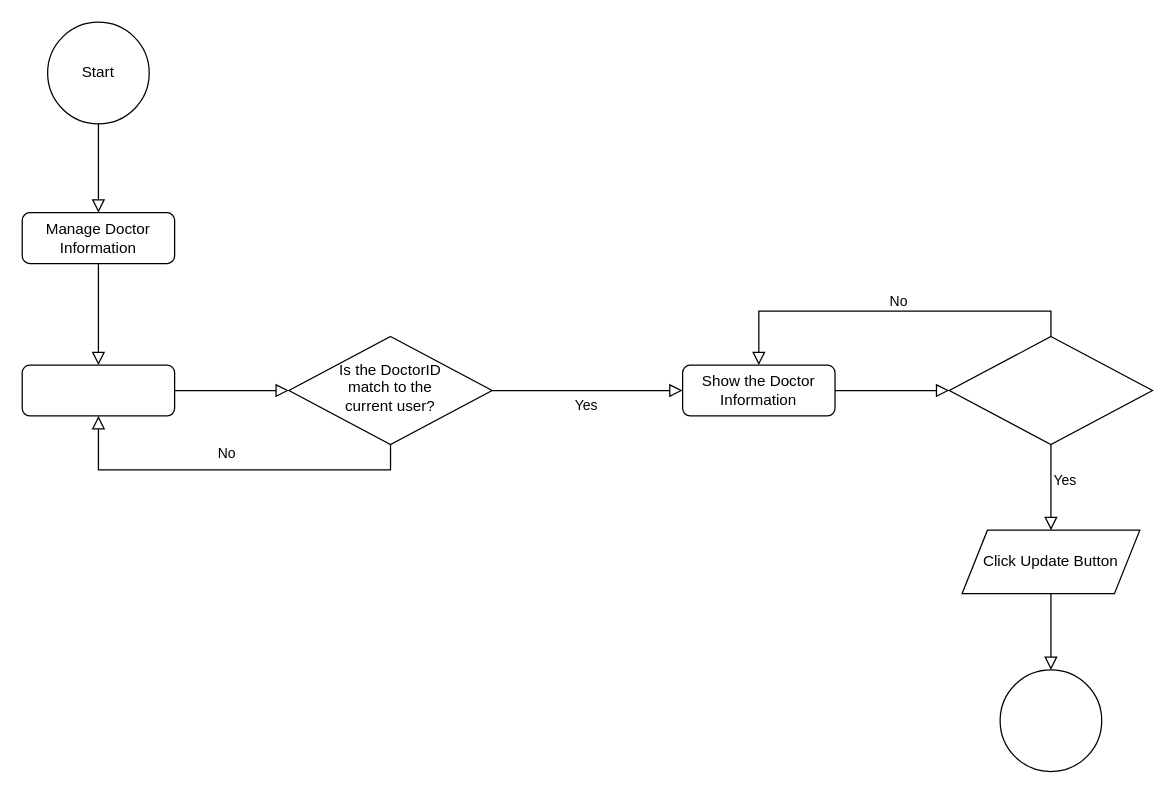
This 1175x794 diagram has some shape labels left out. The box of each missing label's shape, as (x1, y1, x2, y2) in pixels:
Binary Search Tree Algorithm: (21, 364, 175, 416)
End: (999, 669, 1102, 772)
Want update the personal information?: (948, 335, 1153, 444)
